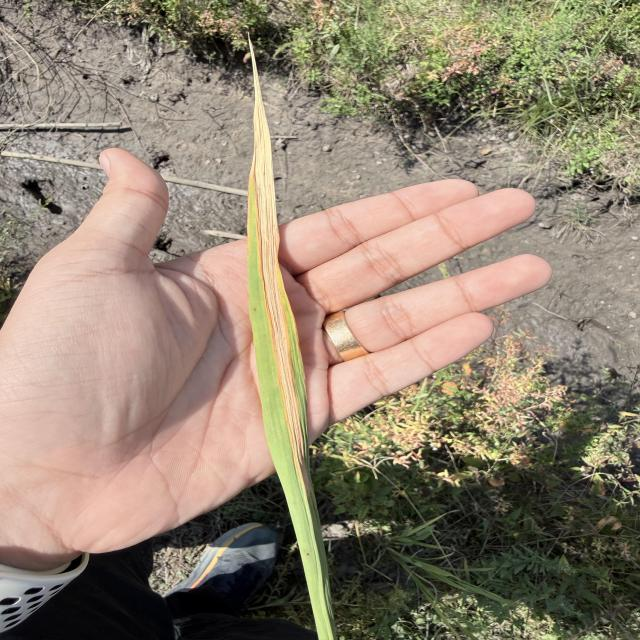Chay bia la: (246, 36, 307, 487)
